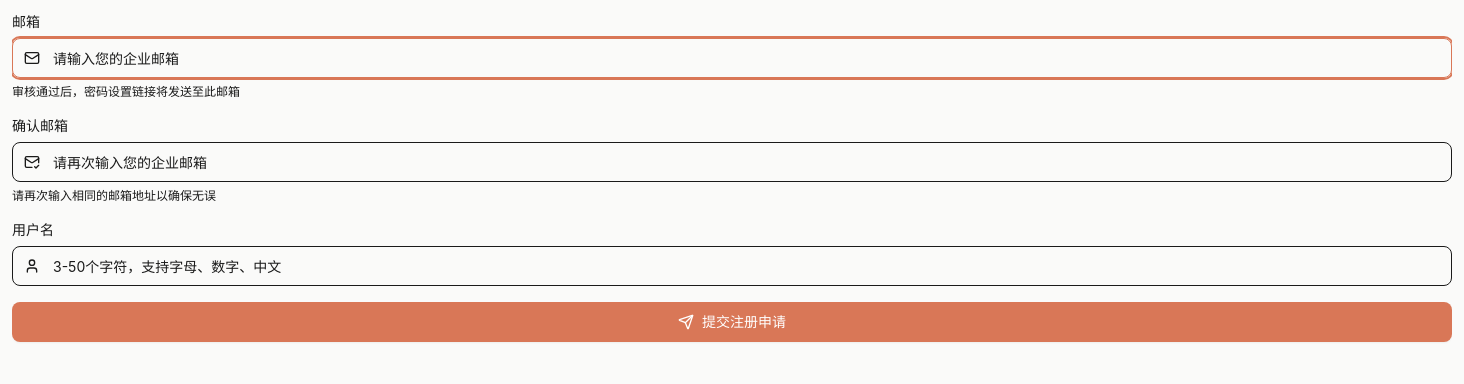
Test case: RegisterApplyForm 组件 › 用户名过短 - 显示错误
This screenshot has width=1464, height=384.
In the field with placeholder "请输入您的企业邮箱": (732, 58) [12,38,1452,78], type "test@example.com"
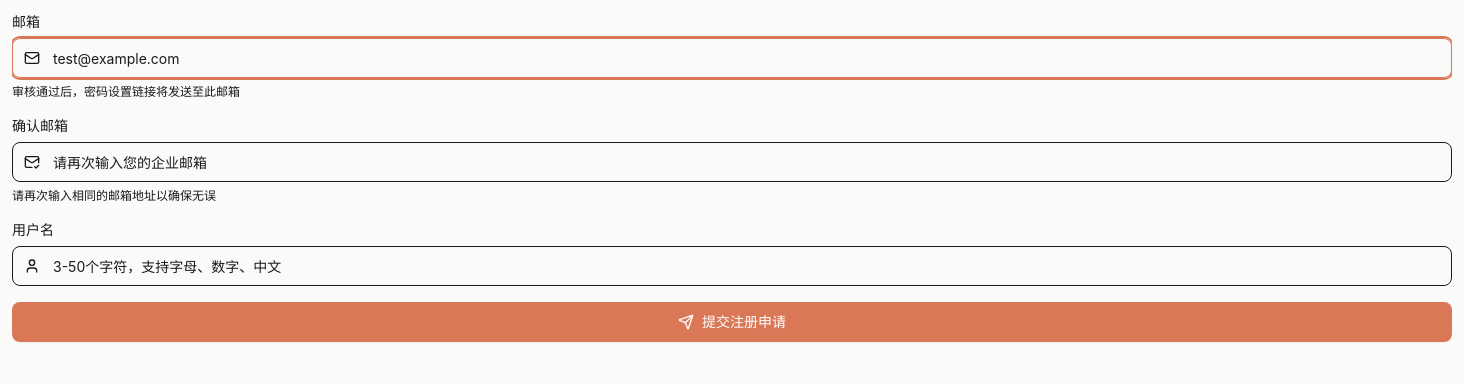
In the field with placeholder "请再次输入您的企业邮箱": (732, 162) [12,142,1452,182], type "test@example.com"
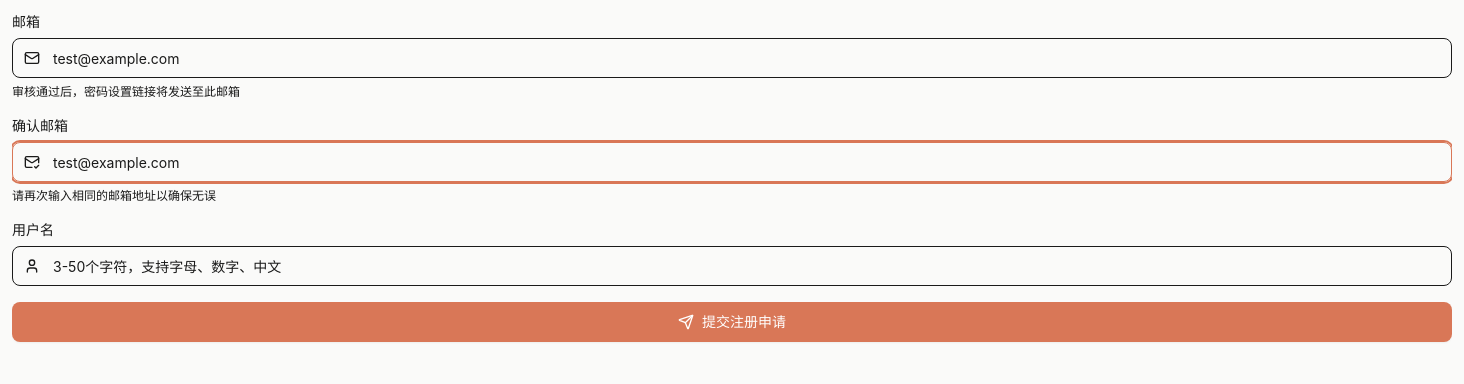
In the field with placeholder "3-50个字符，支持字母、数字、中文": (732, 266) [12,246,1452,286], type "ab"
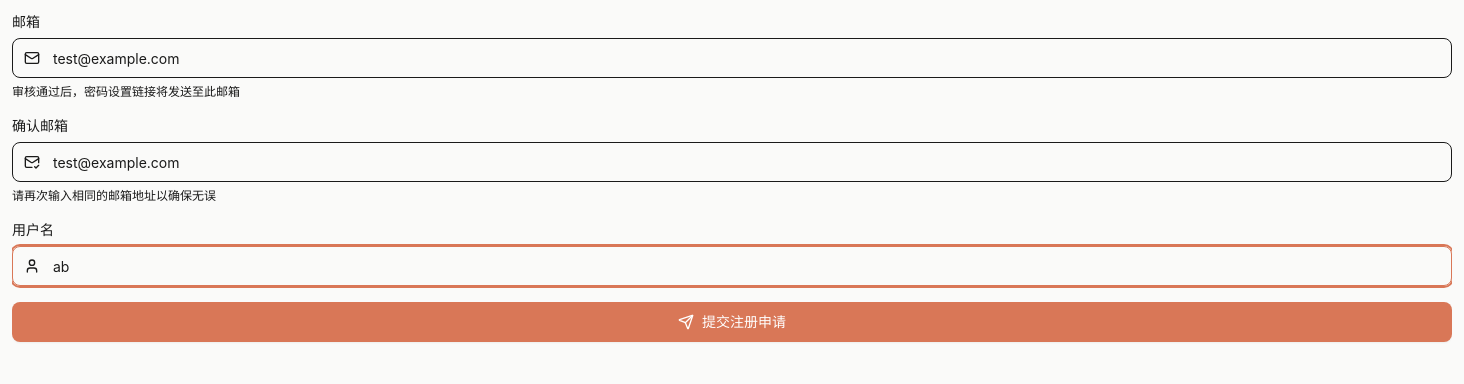
Click the button "提交注册申请": click(732, 322) [12,302,1452,342]
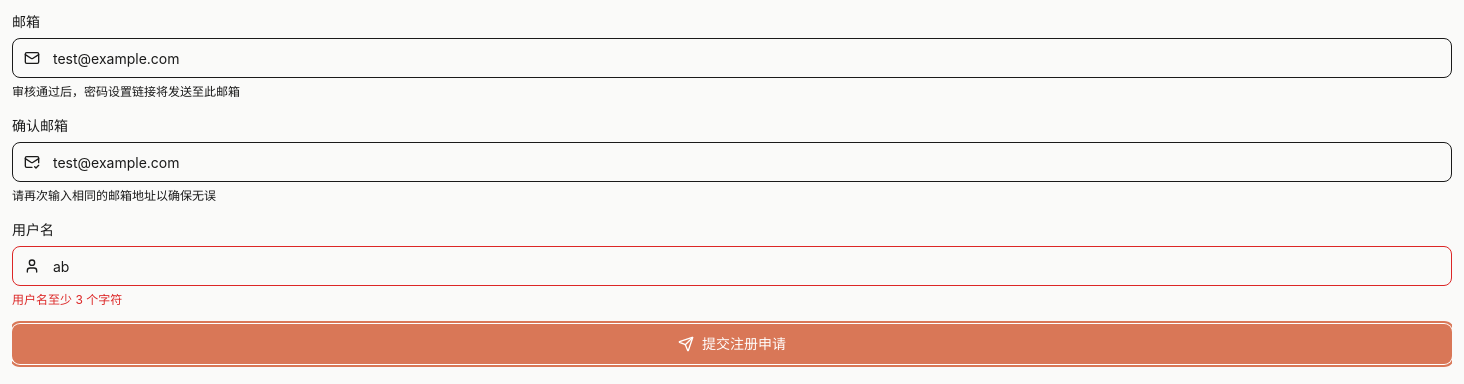
Result: the text "用户名至少 3 个字符" is shown at [12,292,122,307]
